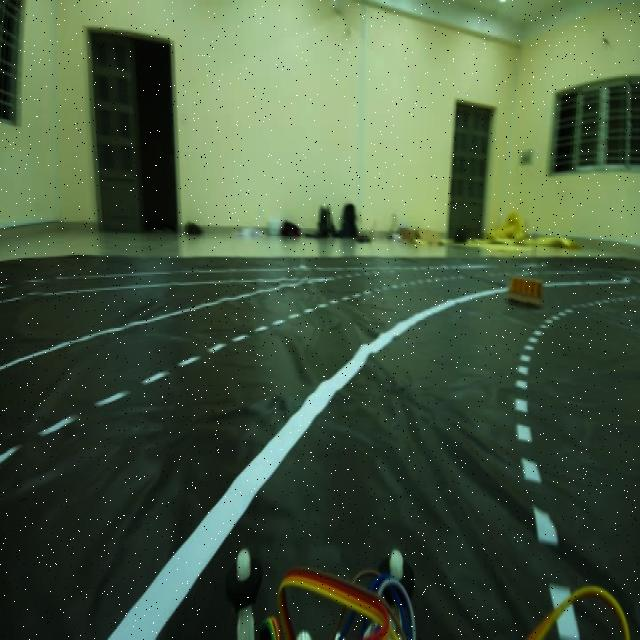roadblock: (504, 263, 546, 312)
